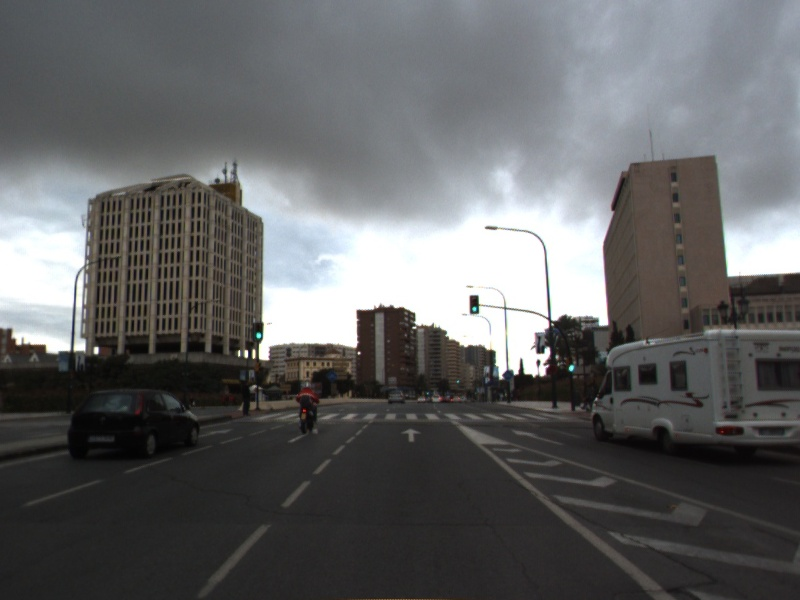STRAIGHT: (509, 427, 566, 447), (285, 426, 320, 445), (197, 426, 235, 439), (398, 426, 424, 444)
